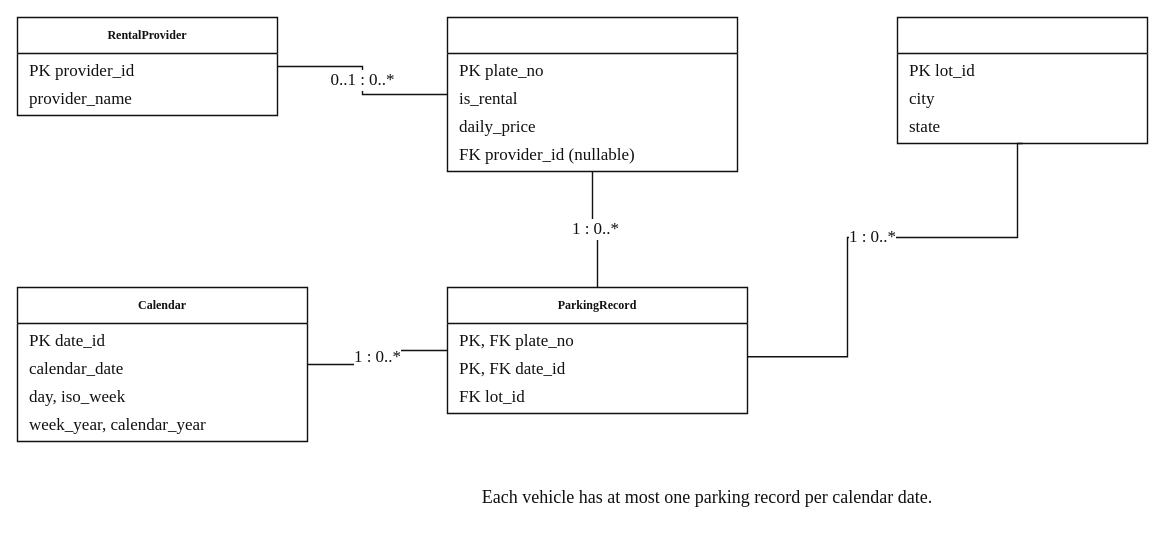
Some shapes in this 1166 by 535 pixel diagram are drawn without their labels. The shapes that lost their labels are listed below. From the top down, each one's box as (x1, y1, x2, y2) in pixels, then its label:
(446, 16, 738, 172): Vehicle
(896, 16, 1148, 144): ParkingLot
